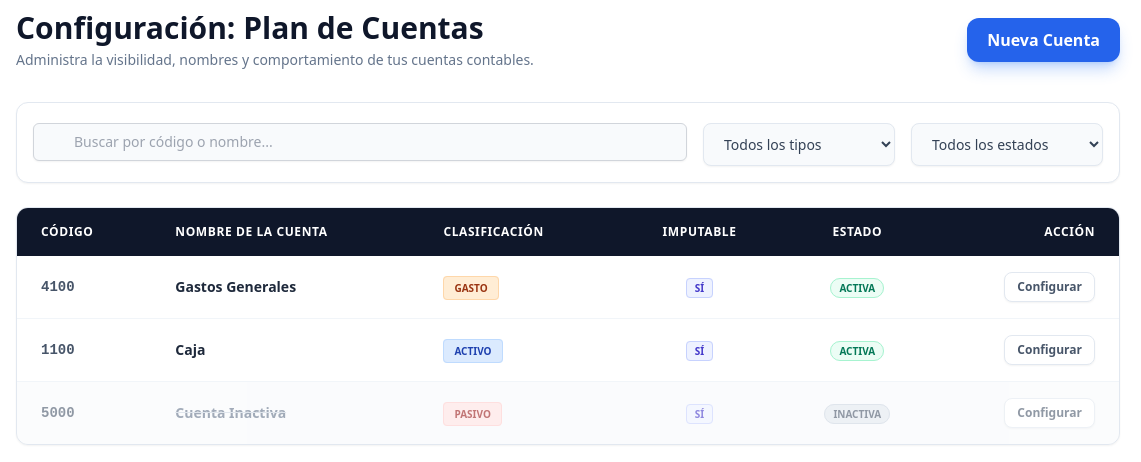
Test: AdministradorCuentas › filtros › filtro por tipo GASTO muestra solo cuentas GASTO
Select "Gastos" in the 1st dropdown at (799, 144), box [703,123,895,166]
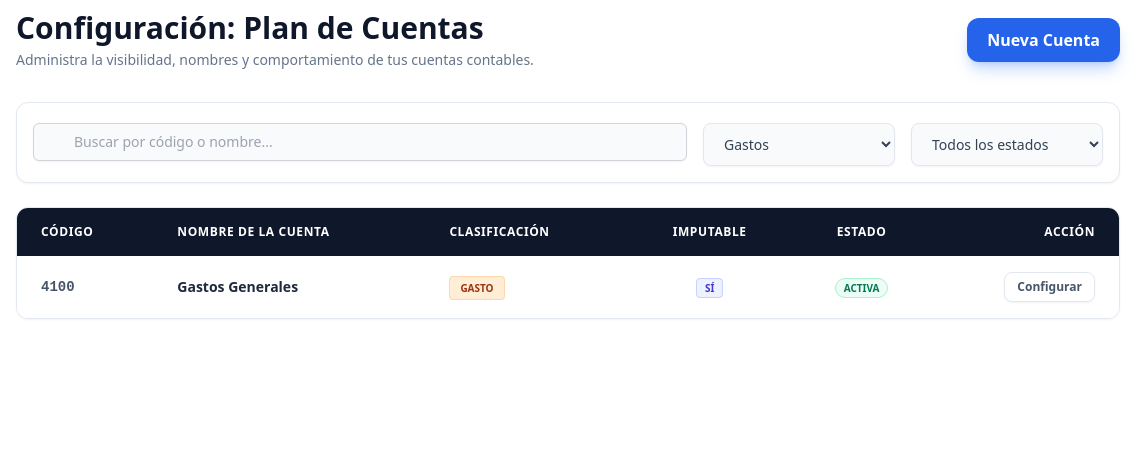
Expected: the text "Caja" is not shown
